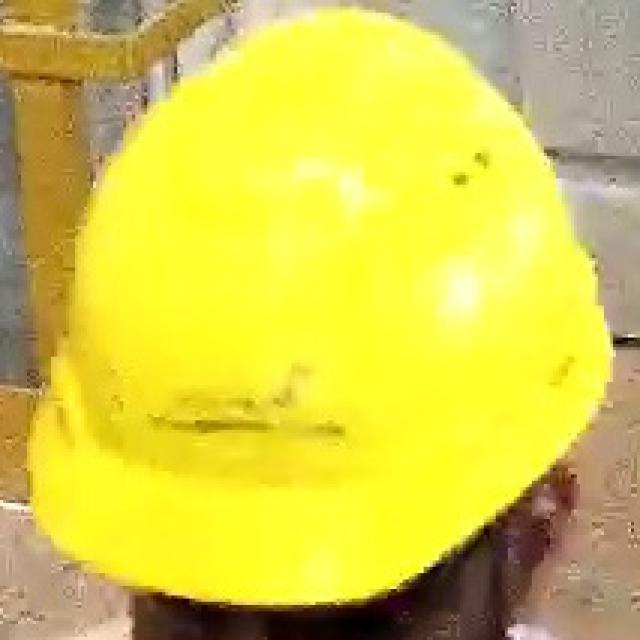yellow helmet: (40, 13, 621, 611)
